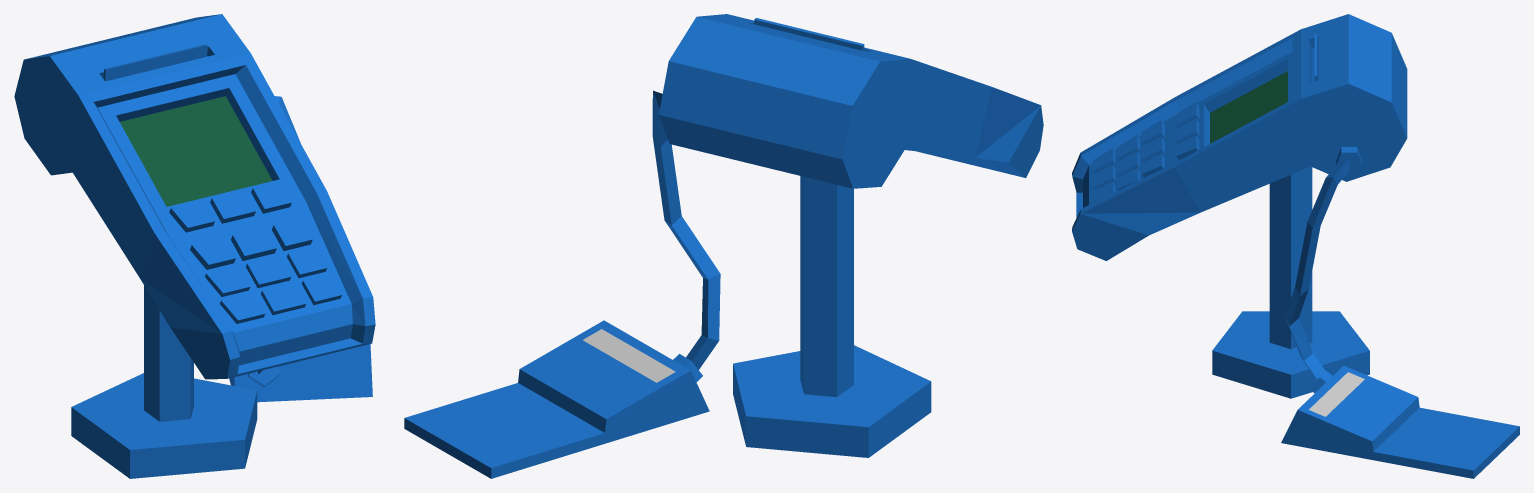
File: T_payment_terminal.fbx
3 views of the same model, side by side, from view 1: azimuth 30°, elevation 25°; view 2: azimuth 150°, elevation 25°; view 3: azimuth 270°, elevation 25° (orthographic). The views are drawn at different scales.
Parts seen in each view (by area): view 1: payment_terminal; view 2: payment_terminal; view 3: payment_terminal.
Boxes of the visible parts, x1,y1,x2,y2 form: payment_terminal: [14, 14, 375, 478]; payment_terminal: [404, 14, 1043, 478]; payment_terminal: [1072, 14, 1519, 478].
Bounding box in the file's own units: 31.39 × 30.71 × 39.59.
